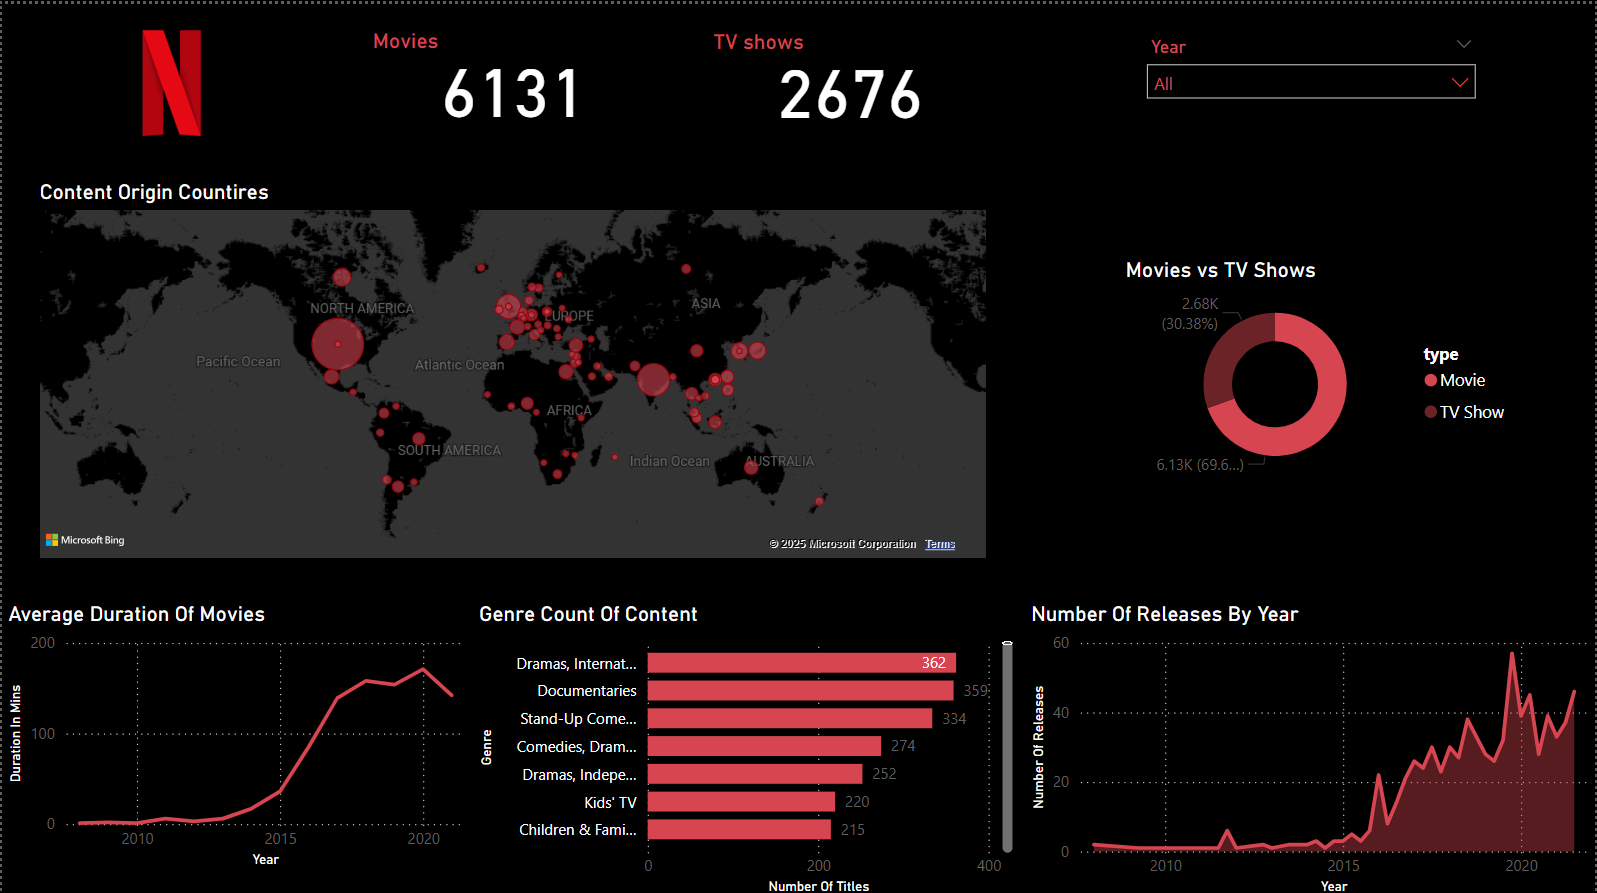

The page's visual inventory and layout, read from the dashboard file:
{"tool":"powerbi","page":{"name":"Page 1","canvas":[1280,720],"ordinal":0},"visuals":[{"type":"donutChart","title":"Movies vs TV Shows","fields":{"Category":["Netflix_out.type"],"Y":["Count(Netflix_out.Column1)"]},"box":[897.7,203.5,323.3,183.7],"z":0},{"type":"areaChart","title":"Number Of Releases By Year","fields":{"Category":["Netflix_out.date_added.Variation.Date Hierarchy.Year","Netflix_out.date_added.Variation.Date Hierarchy.Quarter"],"Y":["Count(Netflix_out.release_year)"]},"box":[821.5,479.7,458.9,239.9],"z":1000},{"type":"clusteredBarChart","title":"Genre Count Of Content","fields":{"Category":["Netflix_out.listed_in"],"Y":["Count(Netflix_out.Column1)"]},"box":[378.9,479.7,438,239.9],"z":2000},{"type":"map","title":"Content Origin Countires","fields":{"Category":["Netflix_out.country"],"Size":["Count(Netflix_out.Column1)"]},"box":[25.6,140.7,769.8,309.3],"z":3000},{"type":"lineChart","title":"Average Duration Of Movies","fields":{"Category":["Netflix_out.date_added.Variation.Date Hierarchy.Year","Netflix_out.date_added.Variation.Date Hierarchy.Quarter","Netflix_out.date_added.Variation.Date Hierarchy.Month","Netflix_out.date_added.Variation.Date Hierarchy.Day"],"Y":["Count(Netflix_out.duration)"]},"box":[0,479.7,378.9,217.8],"z":4000},{"type":"card","title":"Movies","fields":{"Values":["CountNonNull(Netflix_out.type)"]},"box":[293,19.8,234.9,93],"z":5000},{"type":"card","title":"TV shows","fields":{"Values":["CountNonNull(Netflix_out.type)"]},"box":[566.3,20.9,229.1,91.9],"z":6000},{"type":"image","box":[0,0,272.1,126.7],"z":7000},{"type":"slicer","fields":{"Values":["Netflix_out.date_added.Variation.Date Hierarchy.Year"]},"box":[909.3,20.9,283.7,91.9],"z":8000}]}

Visuals, with their boxes in screenshot pixels (x1, y1, x2, y2), scaled from the page's 1280x720 canvas onto the 1597x893 screenshot:
"Movies vs TV Shows" donutChart: locate(1120, 252, 1523, 480)
"Number Of Releases By Year" areaChart: locate(1025, 595, 1596, 892)
"Genre Count Of Content" clusteredBarChart: locate(473, 595, 1019, 892)
"Content Origin Countires" map: locate(32, 175, 992, 558)
"Average Duration Of Movies" lineChart: locate(0, 595, 473, 865)
"Movies" card: locate(366, 25, 659, 140)
"TV shows" card: locate(707, 26, 992, 140)
image: locate(0, 0, 339, 157)
slicer - Netflix_out.date_added.Variation.Date Hierarchy.Year: locate(1134, 26, 1488, 140)
